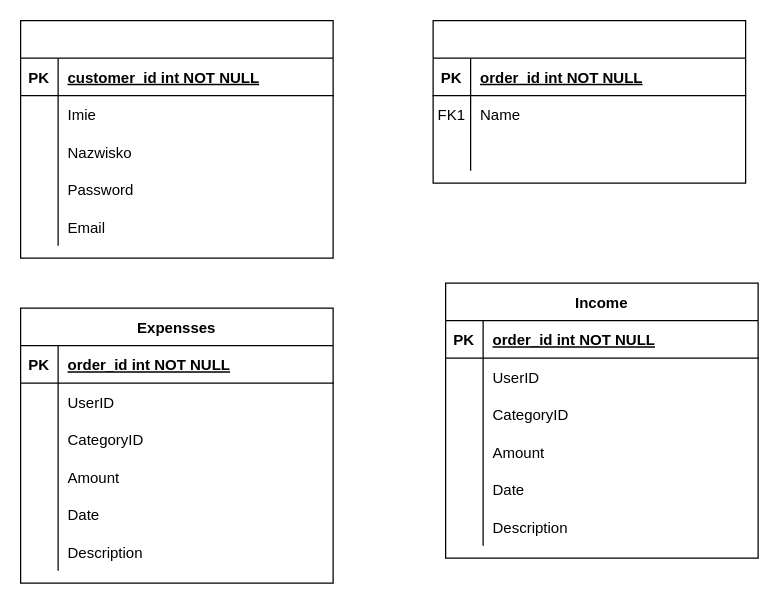
Image size: 779x604. Some labels were removed from this diagram. The box of each missing label's shape, as (x1, y1, x2, y2) in pixels:
Categories: (432, 19, 746, 183)
User: (19, 19, 333, 258)
